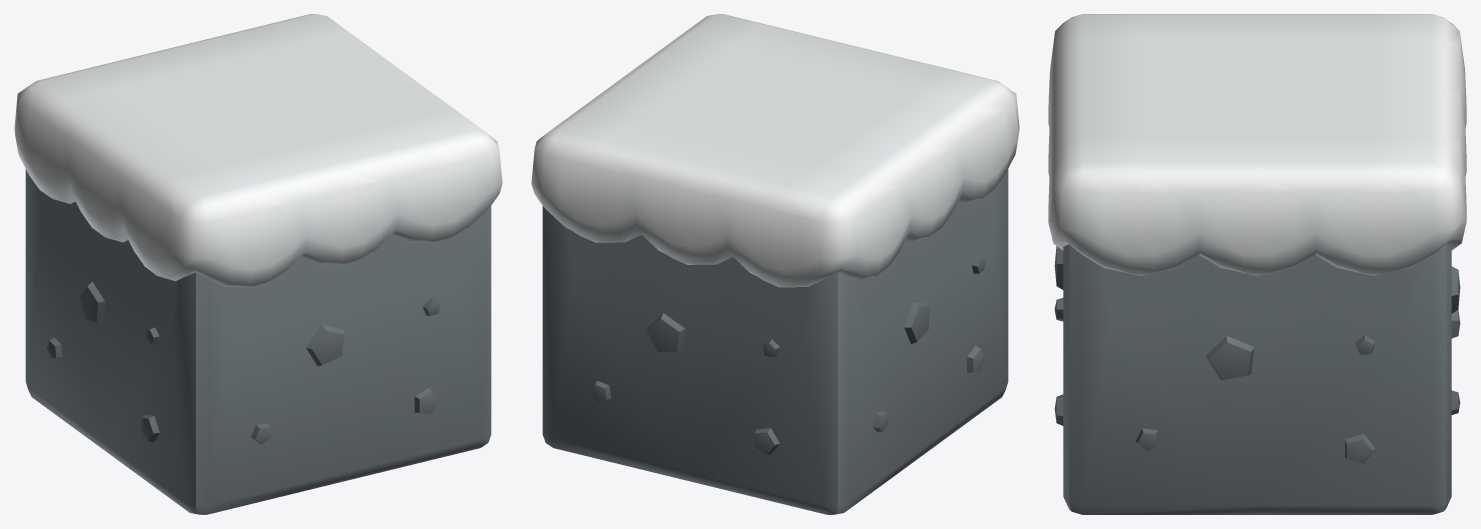
File: gravel_with_snow.glb
3 renders of one model, left to right at view 1: azimuth 30°, elevation 25°; view 2: azimuth 150°, elevation 25°; view 3: azimuth 270°, elevation 25°, orthographic. The views are drawn at different scales.
Visible parts, largest first — view 1: gravel_with_snow; view 2: gravel_with_snow; view 3: gravel_with_snow.
Part boxes in pixels (box(x1,y1,x2,y2)): gravel_with_snow: box(14, 14, 502, 514); gravel_with_snow: box(531, 14, 1019, 514); gravel_with_snow: box(1048, 14, 1466, 514).
Size of the model in its own units: 2.16 by 2.04 by 2.16.
1 material, 1 textured.
